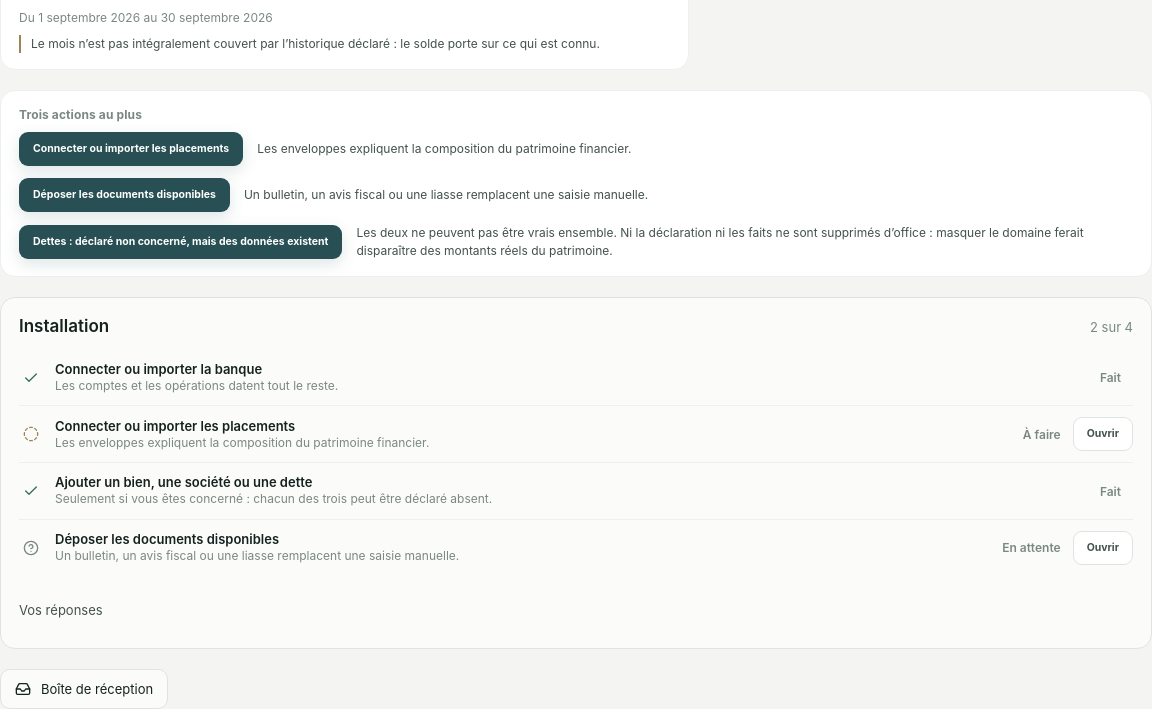
Test case: boîte de réception — tiroir, six vues, quatre explications › dit pourquoi « Données anciennes » est vide au lieu d'affirmer une fraîcheur
This screenshot has width=1152, height=709.
(page scrolled)
Step 1. Click the button "Boîte de réception" → (84, 689), box [0,669,168,708]
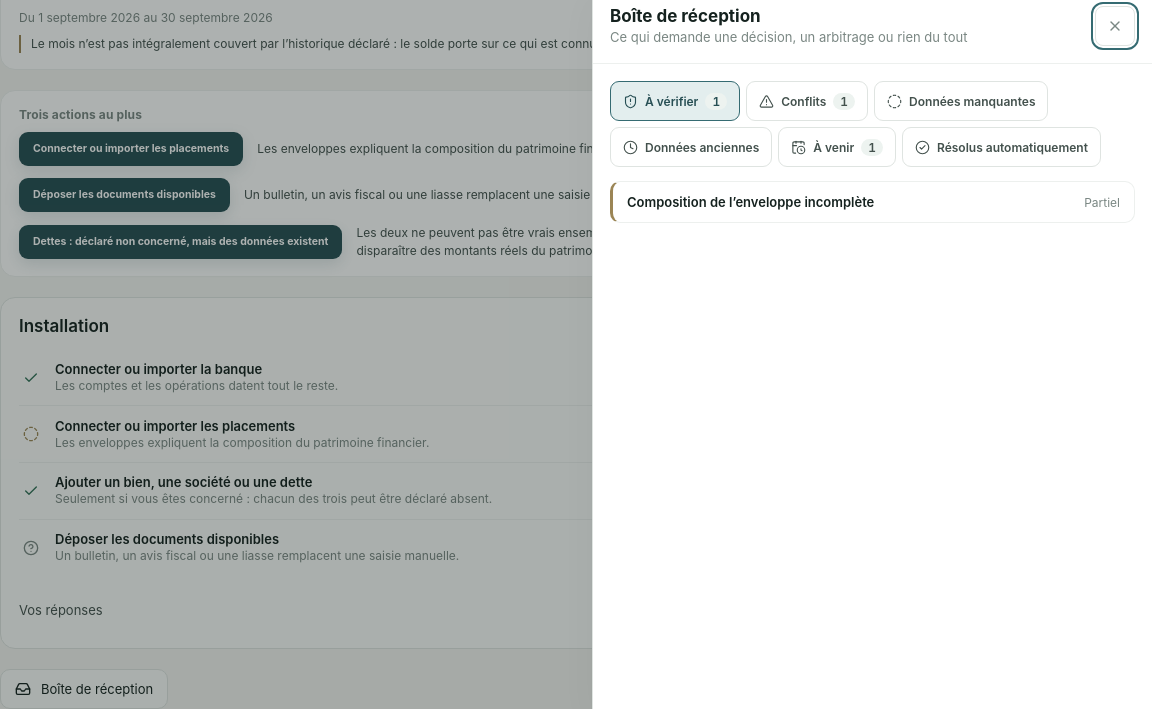
Step 2. Click the tab "Données anciennes" → (691, 147), box [610,127,772,167]
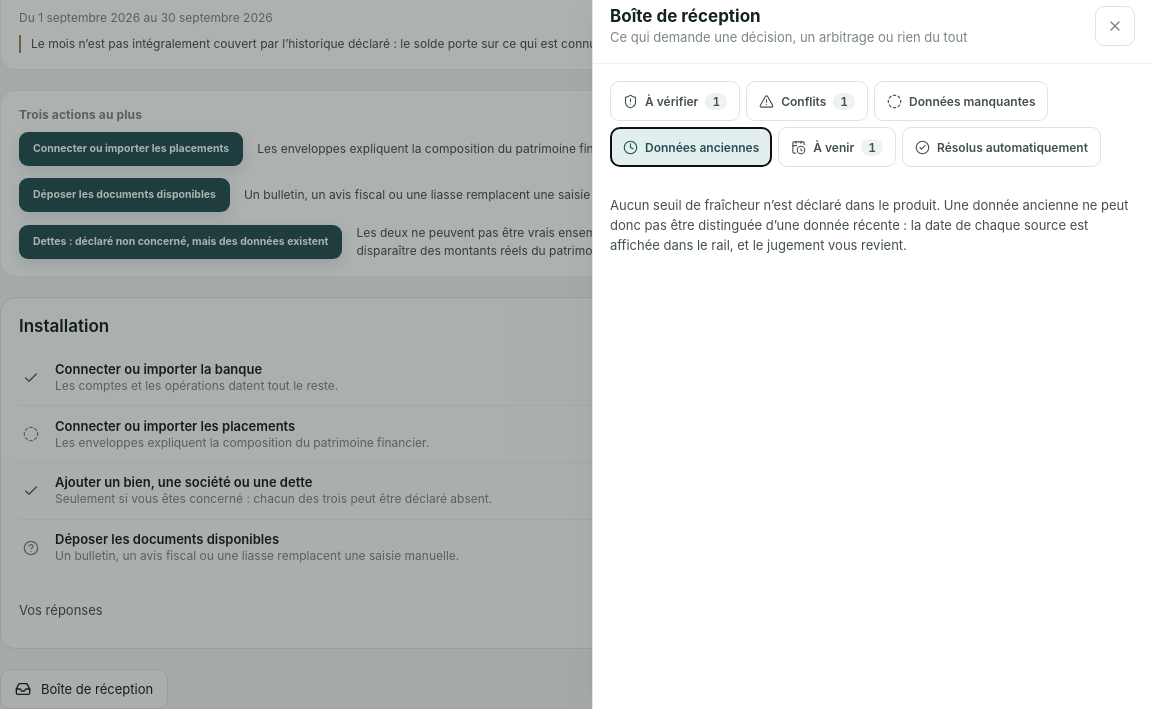
Expected: the text "Aucun seuil de fraîcheur n’est déclaré" is shown, [610,197,1128,253]
